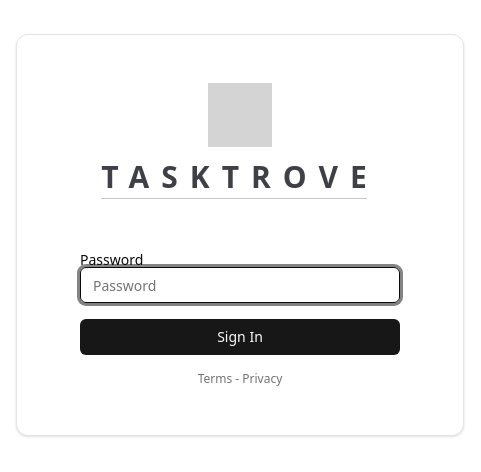
Test: LoginForm › Form Validation › shows error when password is empty
The width and height of the screenshot is (481, 472).
Click the button "Sign In" at (240, 337), box [80, 319, 400, 355]
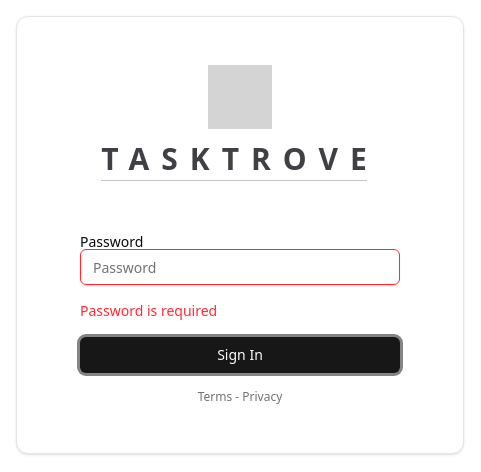
Result: the text "Password is required" is shown at [80, 301, 217, 320]
